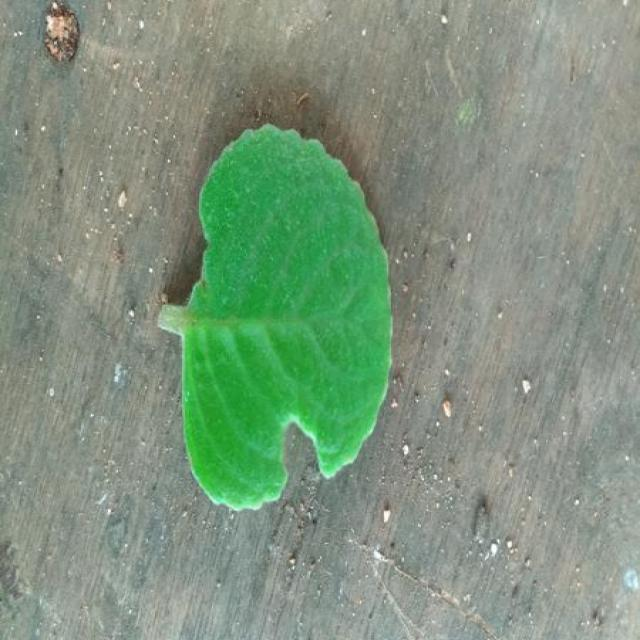doddpathre: (158, 125, 392, 509)
